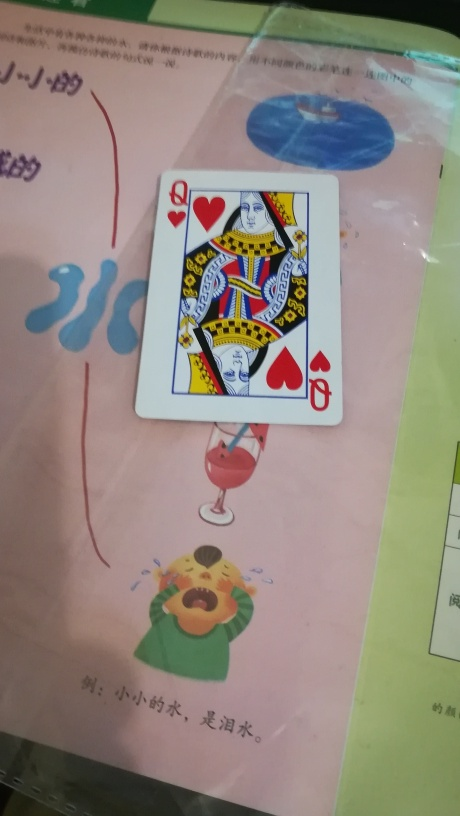hx q: (136, 167, 342, 429)
